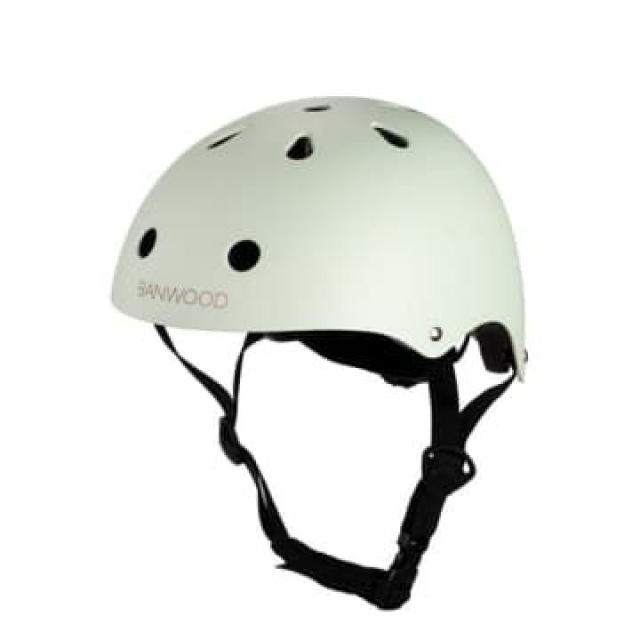Helmet: (107, 94, 533, 385)
